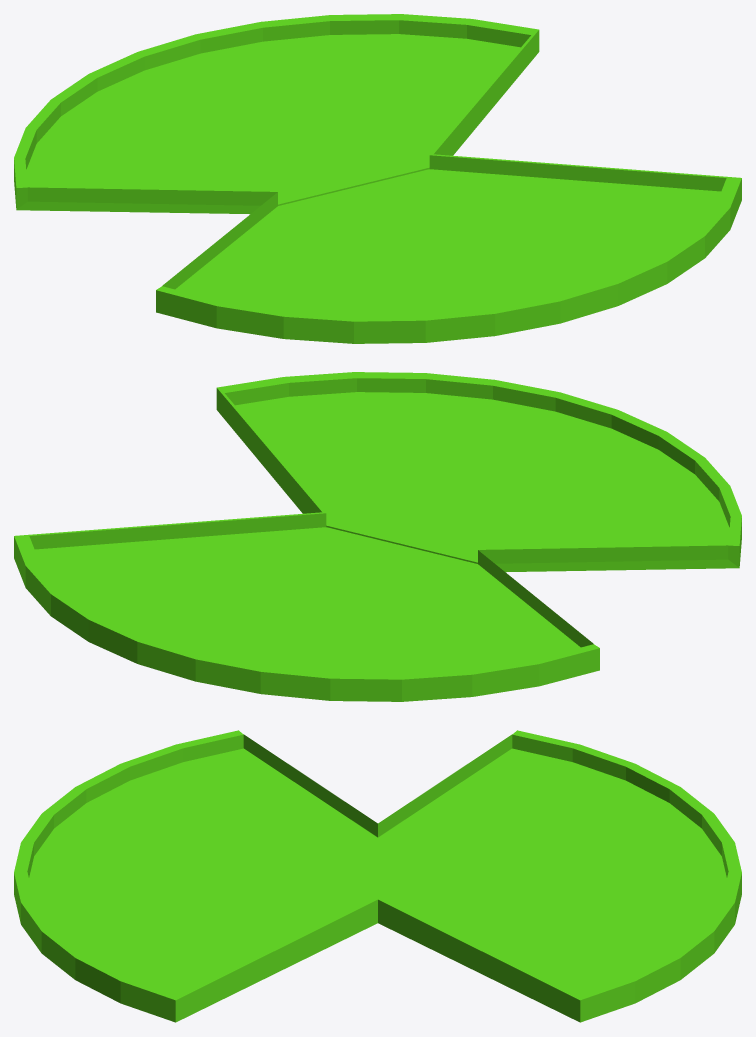
The model's file is nenufar2.fbx.
3 renders of one model, top to bottom at view 1: azimuth 30°, elevation 25°; view 2: azimuth 150°, elevation 25°; view 3: azimuth 270°, elevation 25°, orthographic.
Visible parts, largest first — view 1: Cylinder; view 2: Cylinder; view 3: Cylinder.
Part boxes in pixels (<box>): Cylinder: <box>14,14,741,343</box>; Cylinder: <box>14,372,741,701</box>; Cylinder: <box>14,730,741,1022</box>.
Bounding box in the file's own units: 514 × 19.96 × 585.
